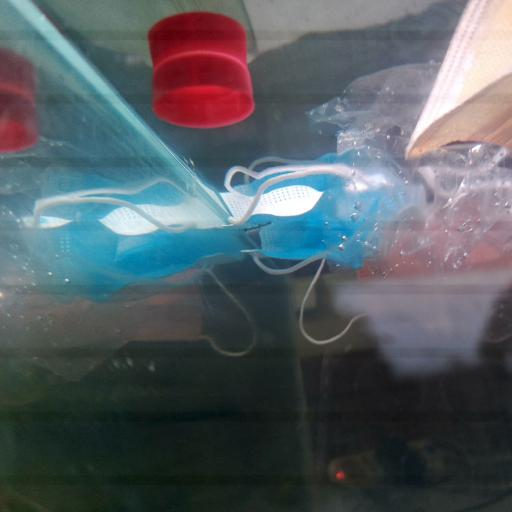bottle_cap: (150, 54, 255, 126), (150, 11, 256, 47)
mask: (222, 162, 410, 274), (399, 0, 512, 175)
plastic_bag: (309, 62, 512, 283)
